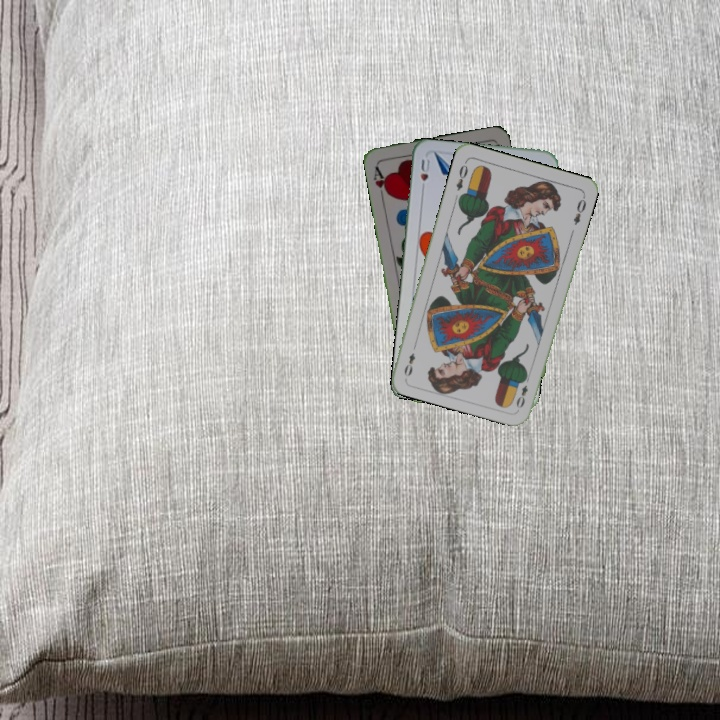EO: (512, 372, 532, 411), (452, 161, 471, 193)
HA: (369, 162, 392, 201)
HU: (416, 155, 432, 194)
